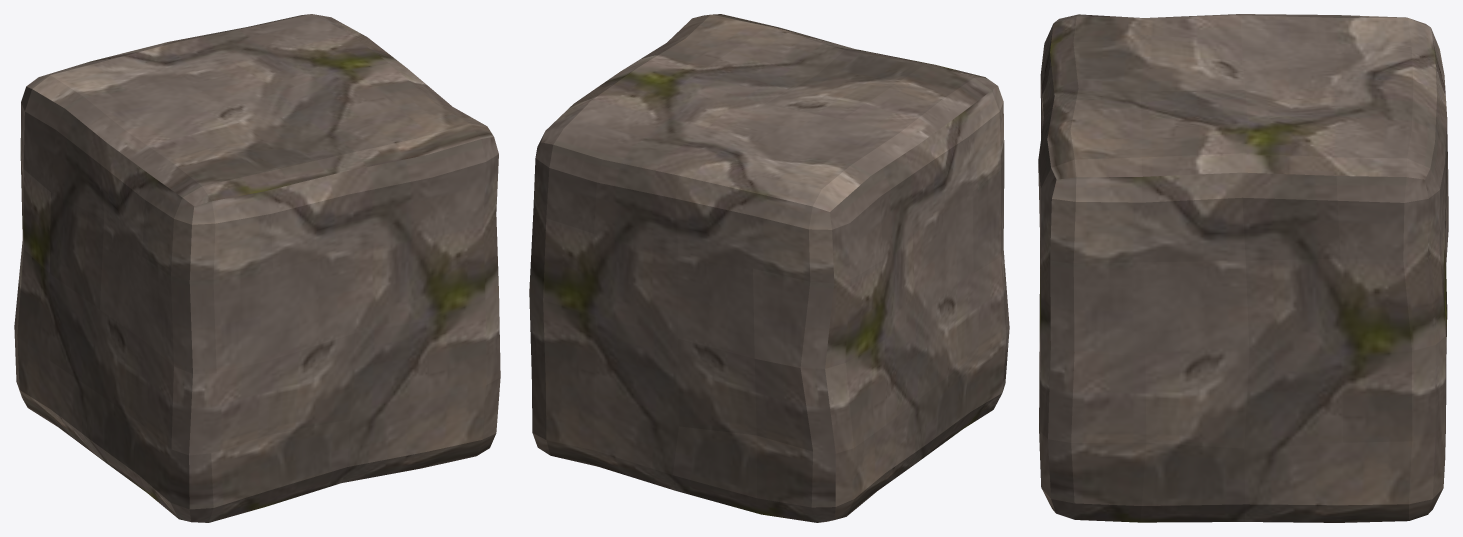
File: cut_stone.glb
3 renders of one model, left to right at view 1: azimuth 30°, elevation 25°; view 2: azimuth 150°, elevation 25°; view 3: azimuth 270°, elevation 25°, orthographic. The views are drawn at different scales.
Visible parts, largest first — view 1: model; view 2: model; view 3: model.
Part boxes in pixels (x1,y1,x2,y2): model: [14, 14, 500, 522]; model: [529, 14, 1009, 522]; model: [1038, 14, 1448, 522].
Size of the model in its own units: 0.2457 by 0.248 by 0.2474.
1 material, 1 textured.
